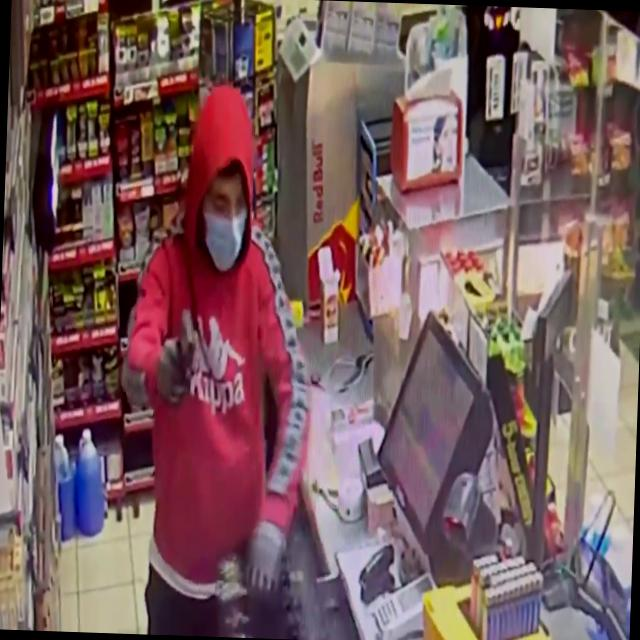long weapon: (168, 302, 210, 394)
